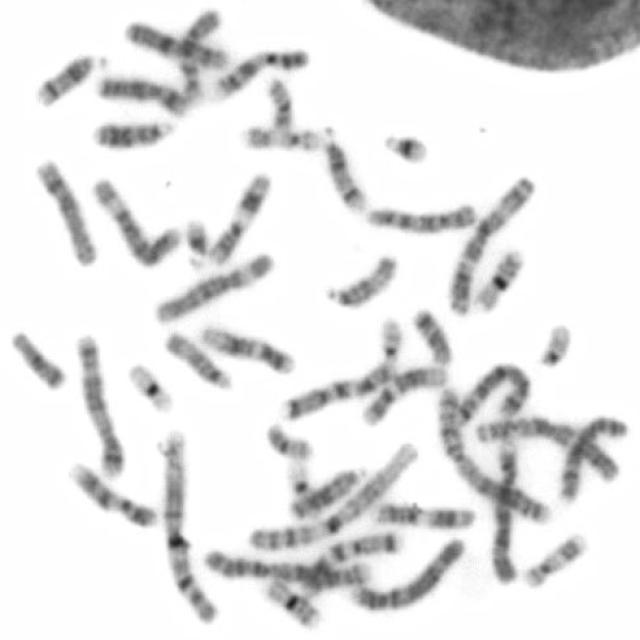A1: (242, 434, 420, 554), (153, 425, 223, 628)
A2: (431, 377, 556, 527), (198, 541, 376, 592)
A3: (442, 168, 538, 320), (469, 413, 623, 485)
B4: (345, 530, 470, 614), (487, 435, 522, 585)
B5: (70, 329, 126, 477), (450, 358, 532, 429)
C10: (172, 2, 225, 106), (362, 196, 480, 237)
C11: (205, 165, 274, 268), (368, 497, 478, 532)
C12: (354, 359, 448, 428), (195, 318, 297, 377)
C6: (149, 244, 278, 325), (86, 171, 184, 269)
C7: (272, 360, 400, 425), (296, 525, 406, 599)
C8: (30, 152, 99, 270), (552, 410, 630, 504)
C9: (61, 455, 160, 530), (204, 40, 313, 103)
D13: (282, 459, 372, 520), (86, 112, 176, 152)
D14: (29, 45, 110, 108), (315, 124, 370, 215)
D15: (318, 247, 401, 310), (160, 324, 232, 390)
E16: (469, 241, 527, 314), (257, 572, 325, 630)
E17: (518, 524, 592, 590), (235, 119, 326, 154)
E18: (5, 325, 69, 393), (406, 301, 456, 366)
F19: (122, 356, 177, 416), (282, 455, 324, 518)
F20: (261, 418, 314, 462), (262, 71, 296, 132)
G21: (377, 123, 432, 166), (179, 212, 212, 272)
G22: (532, 315, 575, 369), (379, 314, 404, 364)
X: (117, 14, 231, 71), (91, 69, 191, 119)
